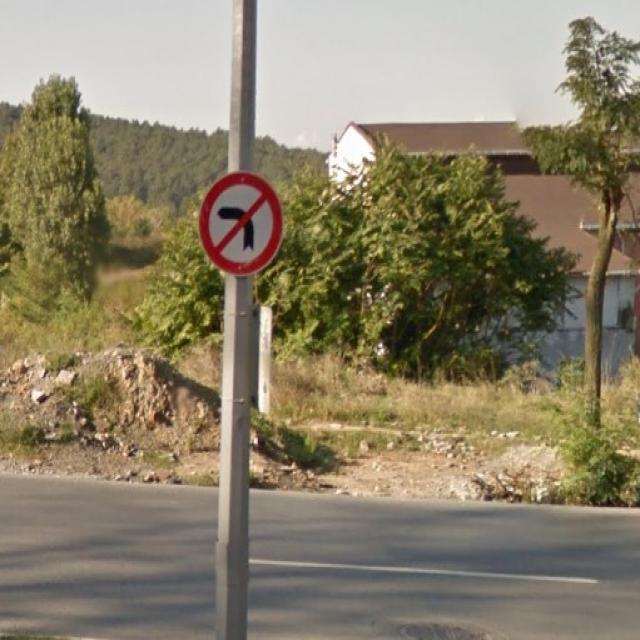soladonulmez: (198, 171, 284, 276)
